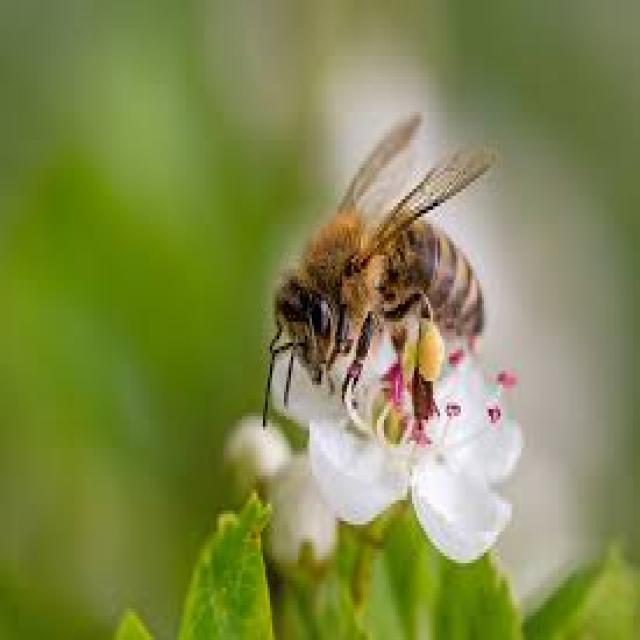Bees: (258, 114, 497, 430)
